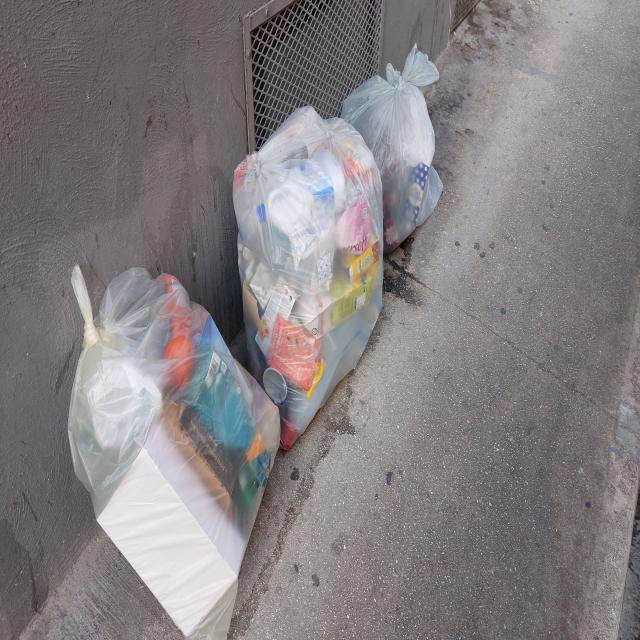Recycled Waste -Grey or Green Bag-: (69, 266, 281, 640), (233, 108, 385, 453), (341, 41, 445, 256)
